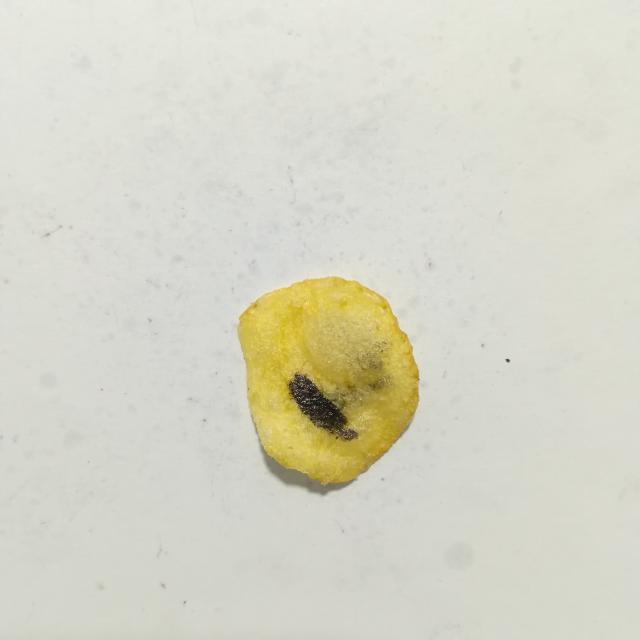chip: (237, 277, 418, 483)
damaged: (289, 373, 357, 440)
semi-damaged: (313, 373, 394, 412), (347, 340, 389, 375)
